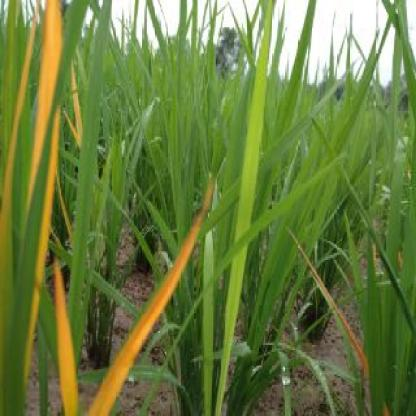Tungro: (30, 8, 69, 263), (51, 250, 77, 410)
